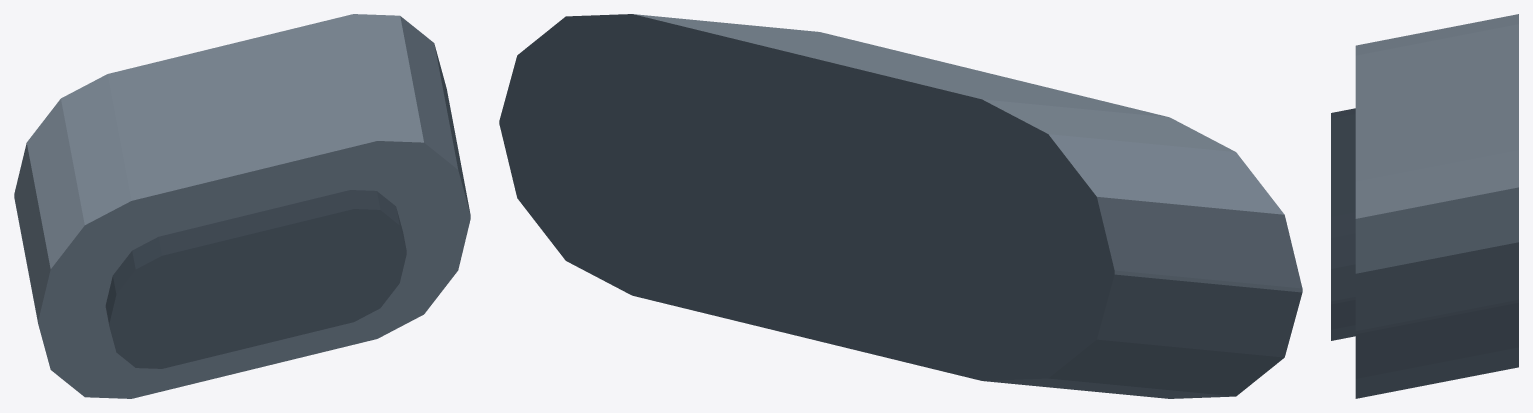
The model's file is Signal_LampOff.gltf.
The picture shows the model from 3 angles, left to right: view 1: azimuth 30°, elevation 25°; view 2: azimuth 150°, elevation 25°; view 3: azimuth 270°, elevation 25°; orthographic projection. The views are drawn at different scales.
Visible parts, largest first — view 1: Signal_LampOff_baked; view 2: Signal_LampOff_baked; view 3: Signal_LampOff_baked.
Boxes of the visible parts, x1,y1,x2,y2 form: Signal_LampOff_baked: (14, 14, 470, 398); Signal_LampOff_baked: (499, 14, 1302, 398); Signal_LampOff_baked: (1331, 14, 1518, 398).
Bounding box in the file's own units: 0.36 × 0.18 × 0.115.
